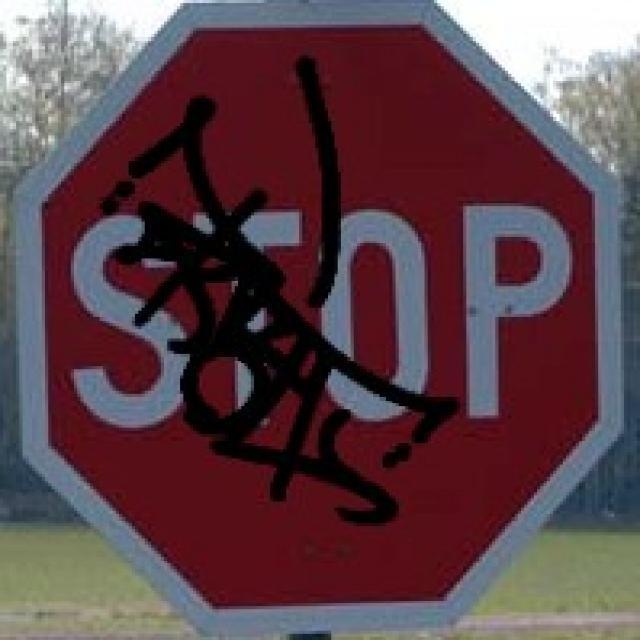Stop-Sign: (31, 31, 591, 596)
